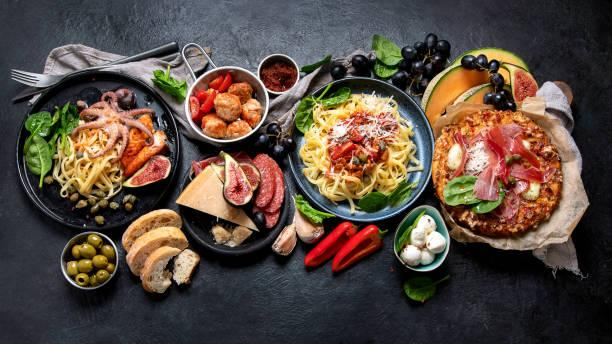Braised Crucian Carp: (432, 86, 588, 271), (15, 71, 178, 229), (289, 75, 434, 222), (177, 149, 291, 257), (182, 64, 267, 145)
